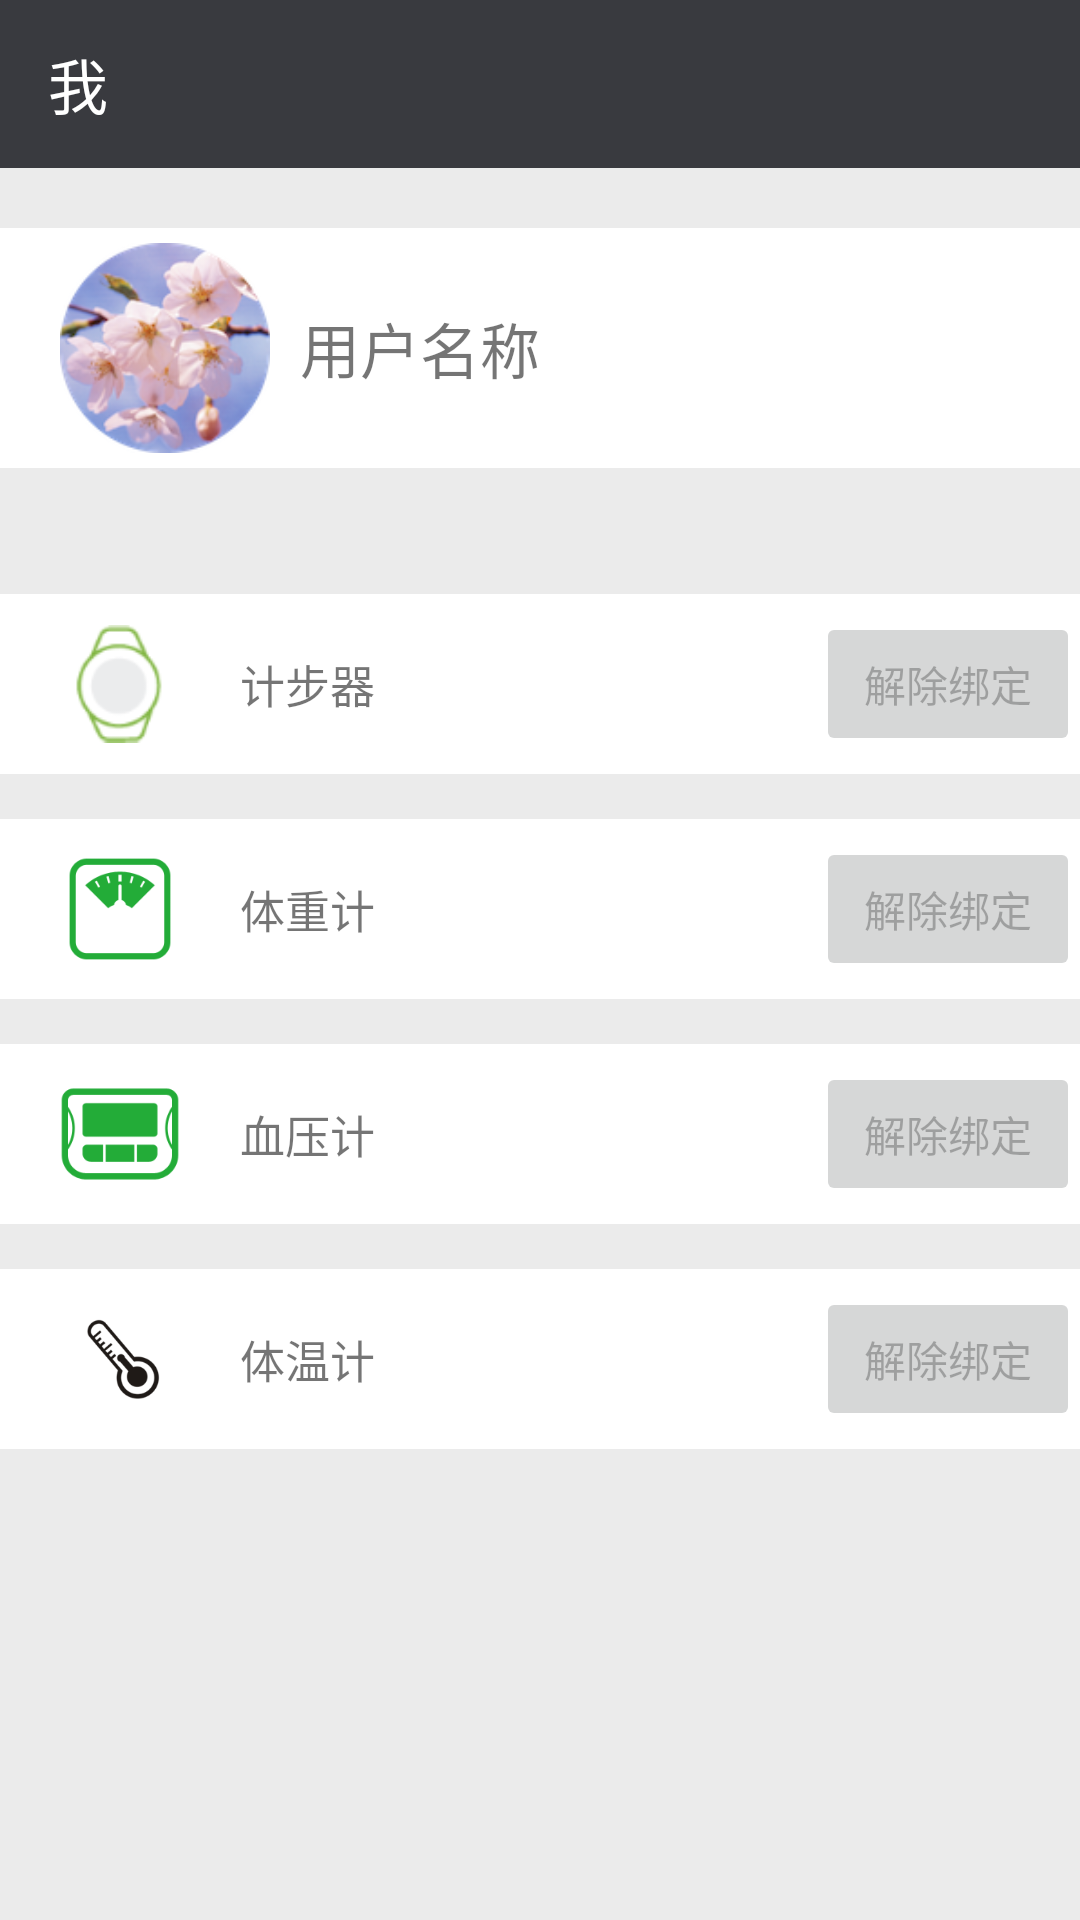

Icons on this 1080 × 1920 Android screen, each with the point to tap as (x=x, y=y):
yd peijian: (x=119, y=684)
用户头像: (x=165, y=348)
